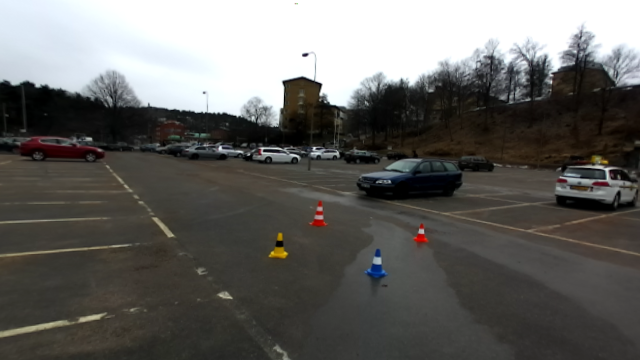blue: (364, 247, 389, 280)
orange: (413, 221, 429, 243)
orange2: (310, 199, 329, 230)
yellow: (266, 230, 289, 260)
